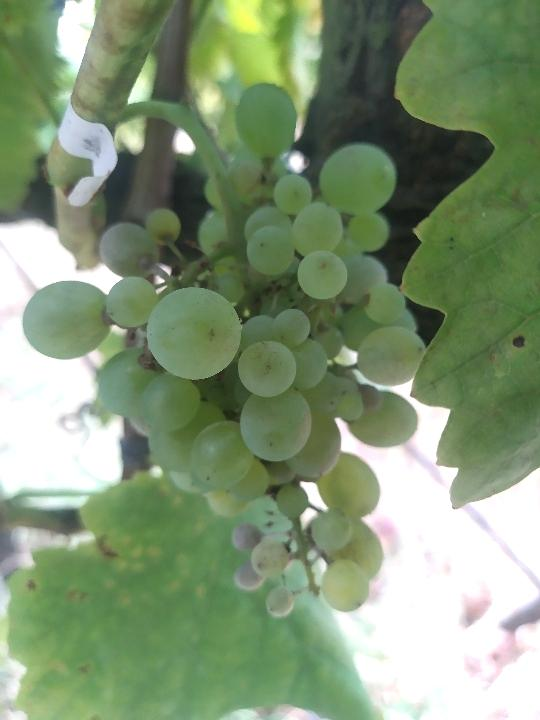grape: (20, 79, 431, 621)
